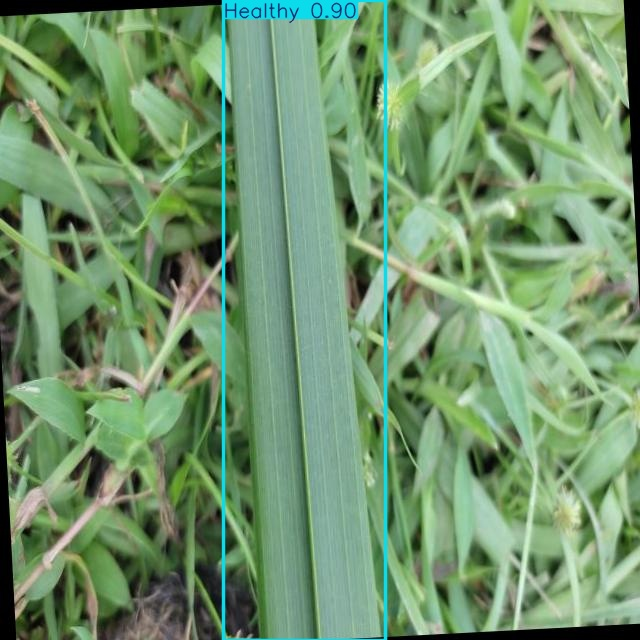Healthy: (224, 0, 386, 640)
